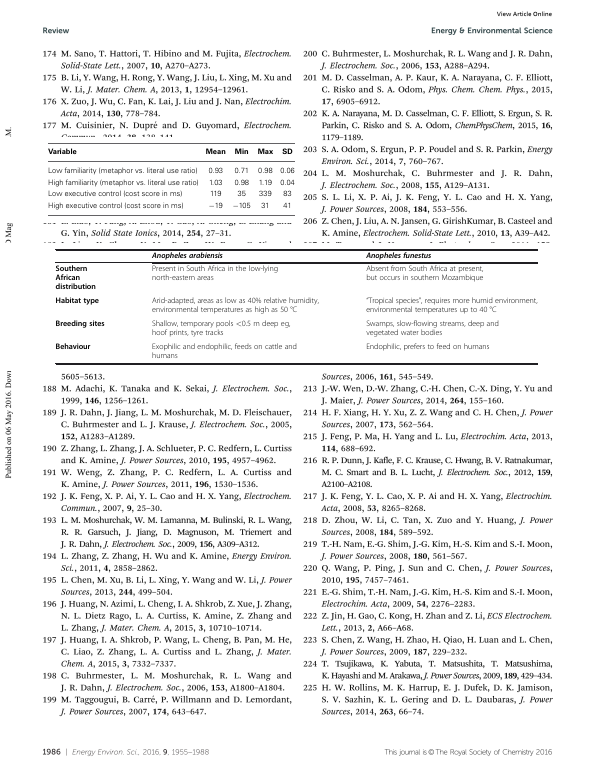borderless: (54, 248, 537, 363), (47, 142, 295, 216)
cell: (365, 297, 538, 316), (151, 297, 320, 316), (151, 343, 298, 362), (151, 320, 291, 339), (365, 320, 500, 339), (151, 265, 279, 284), (365, 265, 484, 284), (46, 179, 199, 188), (46, 167, 198, 176), (365, 343, 490, 353), (46, 202, 184, 211), (46, 190, 183, 199), (54, 265, 97, 293), (151, 252, 224, 261), (365, 252, 432, 261), (54, 320, 106, 330), (54, 297, 100, 307), (54, 343, 91, 353), (46, 148, 77, 156), (231, 202, 251, 211), (204, 148, 226, 156), (256, 167, 273, 176), (207, 167, 223, 176), (233, 167, 249, 176), (279, 167, 295, 176), (207, 179, 223, 188), (233, 179, 249, 188), (279, 179, 295, 188), (207, 202, 223, 211), (256, 148, 273, 156), (257, 179, 272, 188), (257, 190, 272, 199), (233, 148, 249, 156), (208, 190, 222, 199), (281, 148, 293, 156), (236, 190, 246, 199), (282, 190, 292, 199), (260, 202, 270, 211), (282, 202, 292, 211)
